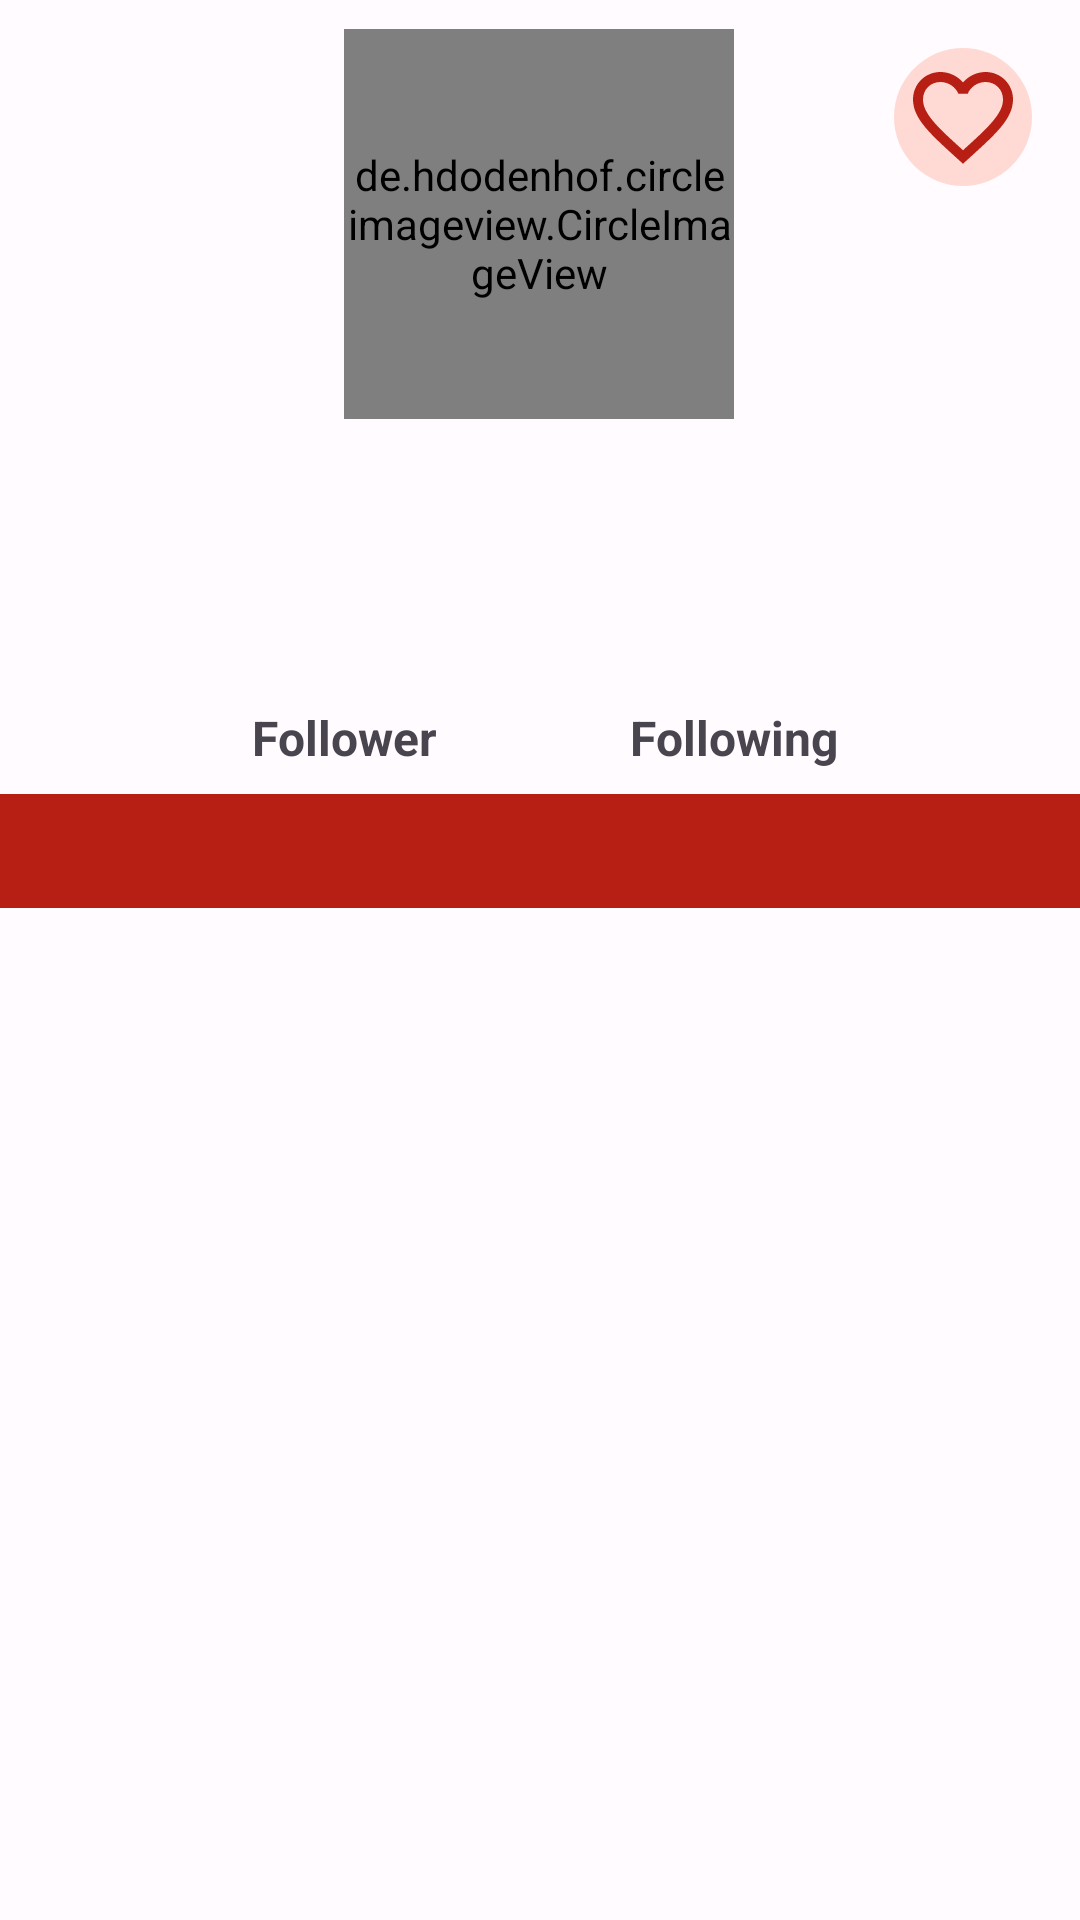

Screen size 1080×1920. Icon name, then its center in pixels as (x,y):
favorite border: (963,117)
